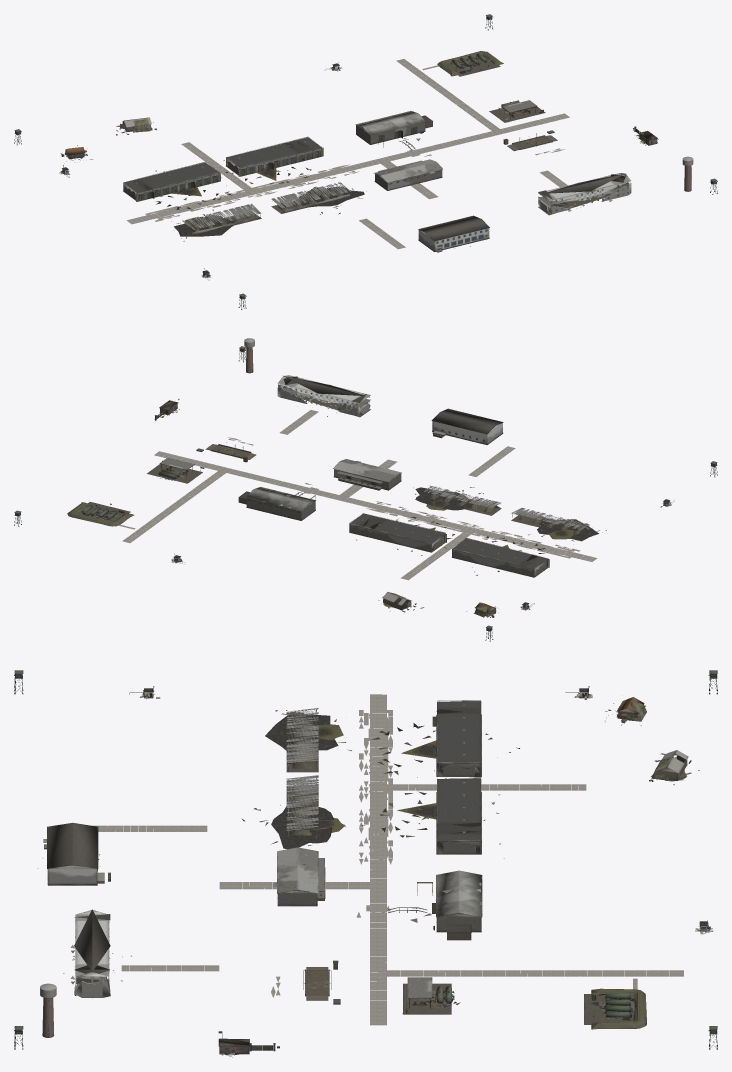
File: site_garr_a_lo.glb
3 views of the same model, one above another, from view 1: azimuth 30°, elevation 25°; view 2: azimuth 150°, elevation 25°; view 3: azimuth 270°, elevation 25° (orthographic). The views are drawn at different scales.
Parts seen in each view (by area): view 1: deco|tile_conc, b_box1|A_A, b_box2|A_A, b_barracks1|A_A, b_canteen|A_A, b_pto|A_A, b_store|A_A, b_shelter1_ruin|A_B, b_shelter2|A_A, b_shelter2_ruin|A_B, b_shelter1|A_A, b_gsm|A_A (+6 smaller); view 2: deco|tile_conc, b_box2|A_A, b_box1|A_A, b_canteen|A_A, b_pto|A_A, b_barracks1|A_A, b_store|A_A, b_shelter1_ruin|A_B, b_shelter2_ruin|A_B, b_shelter2|A_A, b_shelter1|A_A, b_gsm|A_A (+5 smaller); view 3: deco|tile_conc, b_canteen|A_A, b_box1|A_A, b_box2|A_A, b_pto|A_A, b_store|A_A, b_shelter2_ruin|A_B, b_barracks1|A_A, b_shelter1_ruin|A_B, b_gsm|A_A, b_shelter1|A_A, b_shelter2|A_A (+9 smaller).
Part boxes in pixels (box(x1,y1,x2,y2)): deco|tile_conc: box(127, 59, 569, 249); b_box1|A_A: box(123, 161, 220, 201); b_box2|A_A: box(226, 136, 323, 176); b_barracks1|A_A: box(538, 173, 630, 215); b_canteen|A_A: box(418, 215, 489, 252); b_pto|A_A: box(355, 111, 432, 150); b_store|A_A: box(374, 159, 442, 190); b_shelter1_ruin|A_B: box(171, 205, 261, 241); b_shelter2|A_A: box(271, 182, 350, 213); b_shelter2_ruin|A_B: box(274, 182, 366, 214); b_shelter1|A_A: box(182, 203, 261, 234); b_gsm|A_A: box(439, 51, 503, 76); deco|tile_conc: box(118, 410, 597, 580); b_box2|A_A: box(349, 513, 446, 552); b_box1|A_A: box(452, 538, 549, 577); b_canteen|A_A: box(431, 408, 503, 444); b_pto|A_A: box(238, 487, 315, 520); b_barracks1|A_A: box(278, 375, 370, 417); b_store|A_A: box(333, 459, 401, 490); b_shelter1_ruin|A_B: box(514, 508, 606, 541); b_shelter2_ruin|A_B: box(413, 486, 500, 513); b_shelter2|A_A: box(422, 486, 501, 515); b_shelter1|A_A: box(511, 508, 589, 534); b_gsm|A_A: box(68, 502, 133, 526); deco|tile_conc: box(92, 694, 683, 1025); b_canteen|A_A: box(43, 822, 110, 885); b_box1|A_A: box(432, 700, 481, 777); b_box2|A_A: box(432, 777, 481, 854); b_pto|A_A: box(388, 870, 482, 940); b_store|A_A: box(277, 847, 325, 906); b_shelter2_ruin|A_B: box(241, 776, 364, 849); b_barracks1|A_A: box(70, 909, 110, 998); b_shelter1_ruin|A_B: box(265, 710, 351, 771); b_gsm|A_A: box(584, 989, 645, 1029); b_shelter1|A_A: box(286, 708, 318, 772); b_shelter2|A_A: box(286, 775, 318, 838).
Bounding box in the file's own units: 356 × 23.9 × 288.
54 materials, 36 textured.
